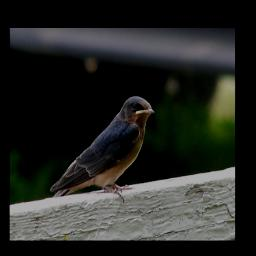Swallow: (49, 95, 155, 204)
